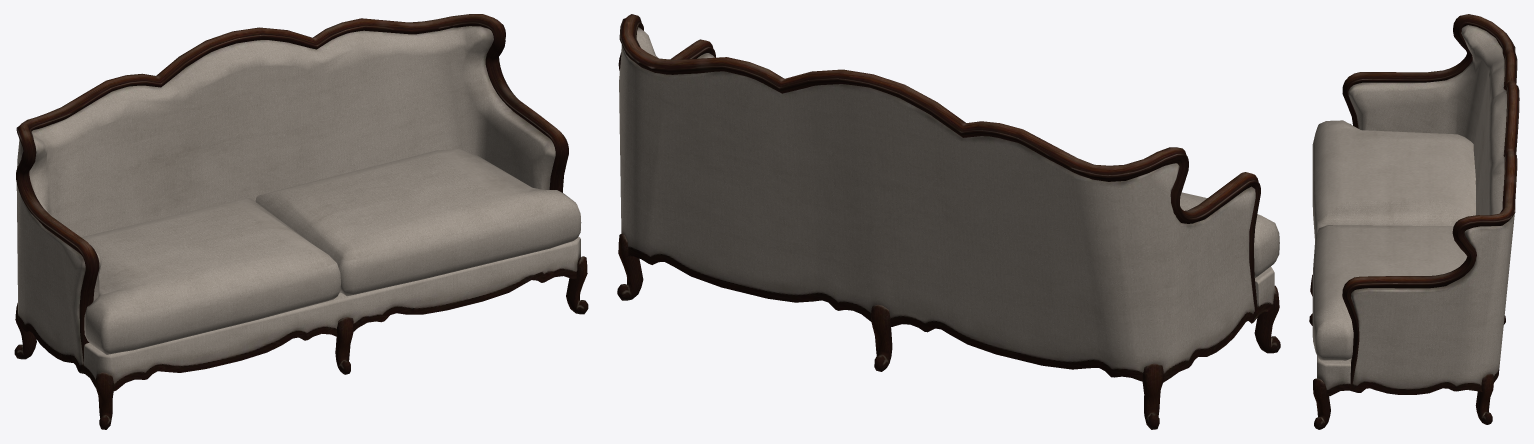
The model's file is victorian-carved-sofa.glb.
3 views of the same model, side by side, from view 1: azimuth 30°, elevation 25°; view 2: azimuth 150°, elevation 25°; view 3: azimuth 270°, elevation 25° (orthographic). The views are drawn at different scales.
Parts seen in each view (by area): view 1: Sofa_01; view 2: Sofa_01; view 3: Sofa_01.
Part boxes in pixels (left/top/right/bottom): Sofa_01: left=14, top=14, right=588, bottom=429; Sofa_01: left=617, top=14, right=1280, bottom=429; Sofa_01: left=1309, top=14, right=1519, bottom=429.
Size of the model in its own units: 1.57 by 0.7966 by 0.658.
Materials: 1 (1 with a texture image).
